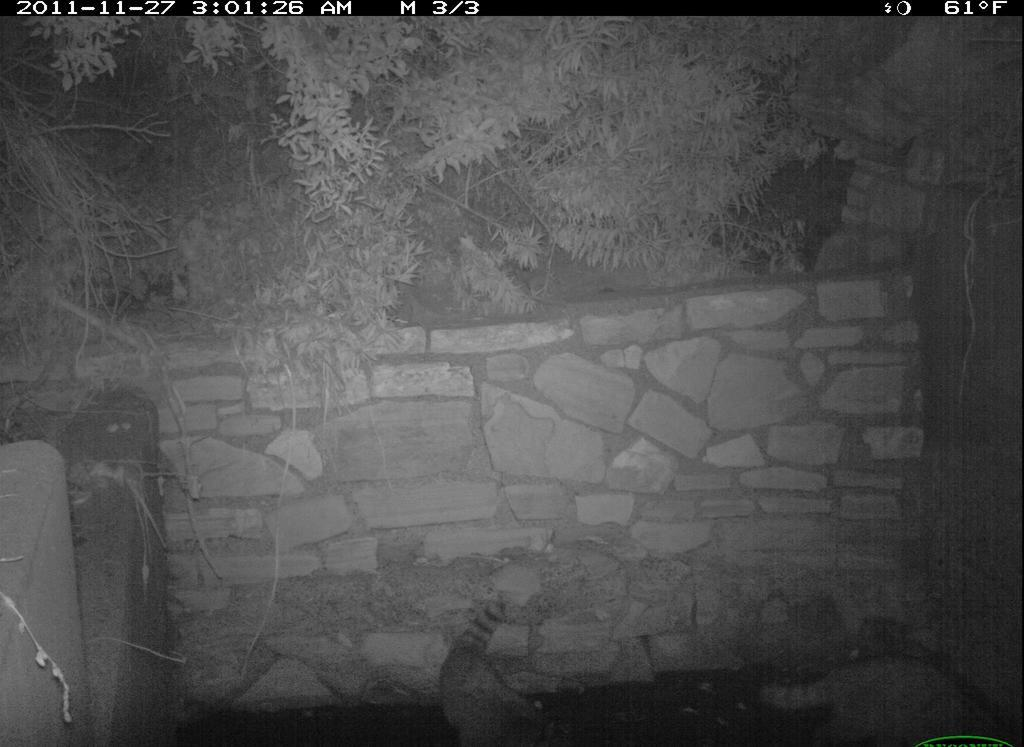raccoon: (744, 641, 1000, 744), (429, 592, 579, 745)
